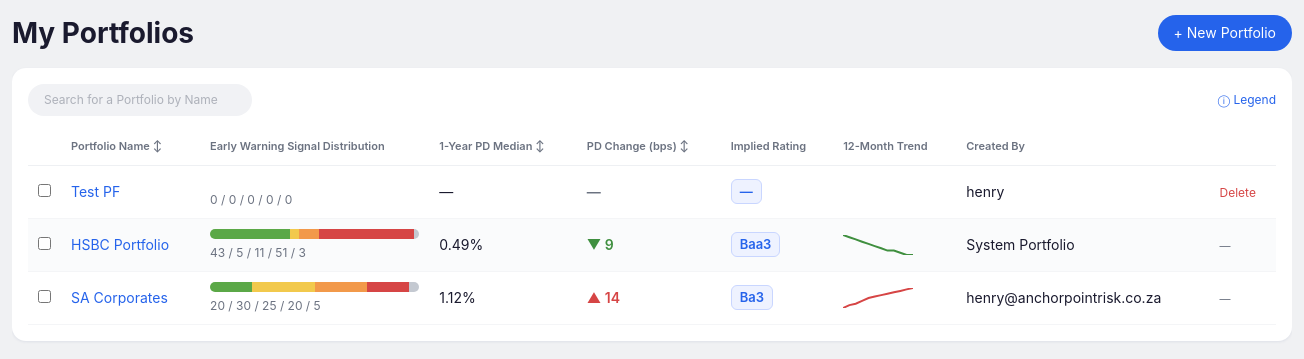
Scenario: Delete / remove actions › deletes a persisted portfolio after confirming
Expected: the link "Test PF" is shown, [71,183,120,200]
Click the button "Delete". click: (1238, 193)
box: [1220,185,1256,201]
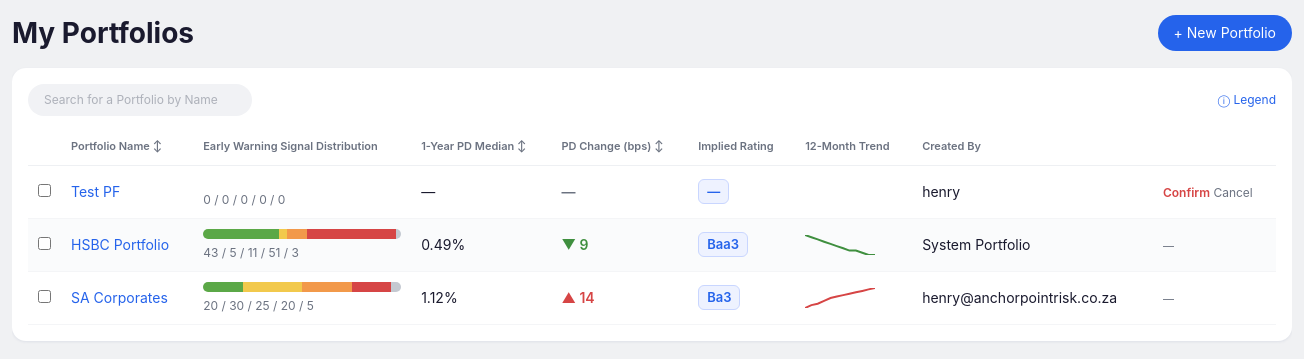
Click the button "Confirm". click: (1187, 193)
box: [1163,185,1210,201]
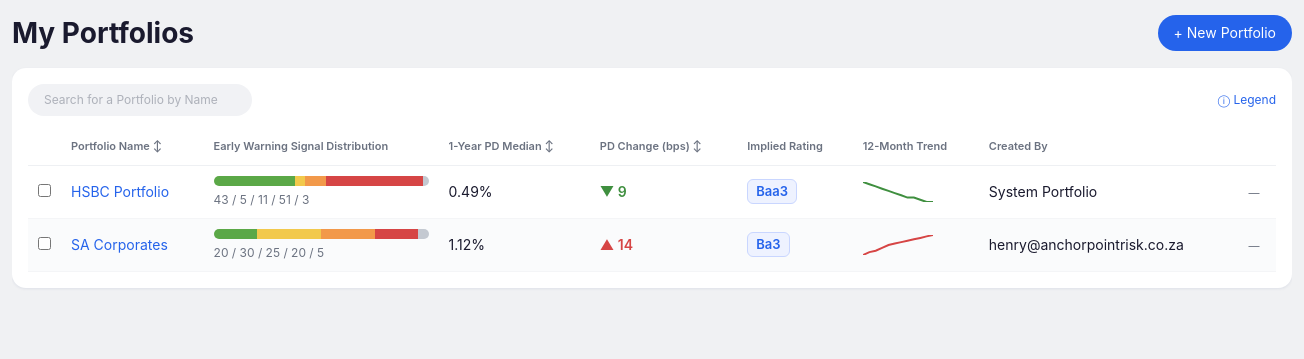
Now the link "Test PF" is gone
